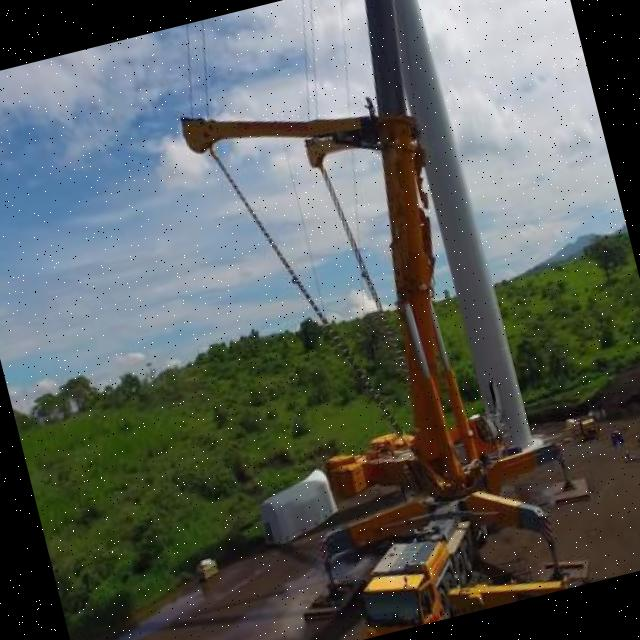Mobile Crane: (153, 0, 604, 640)
